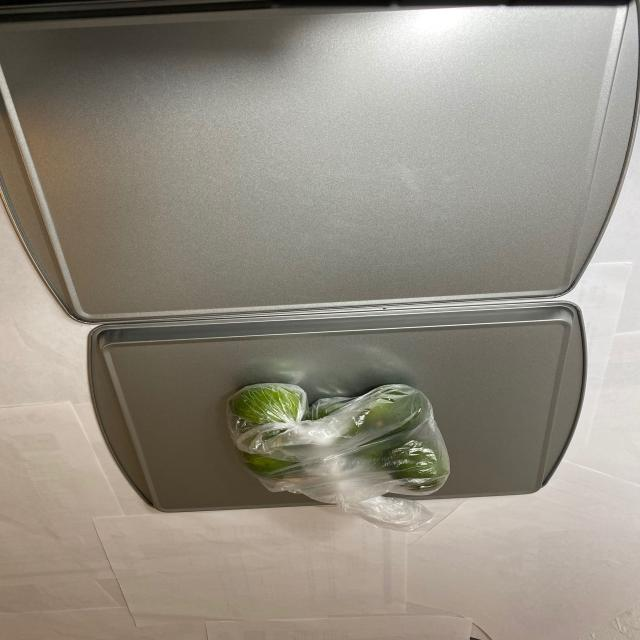lemon: (224, 382, 461, 503)
